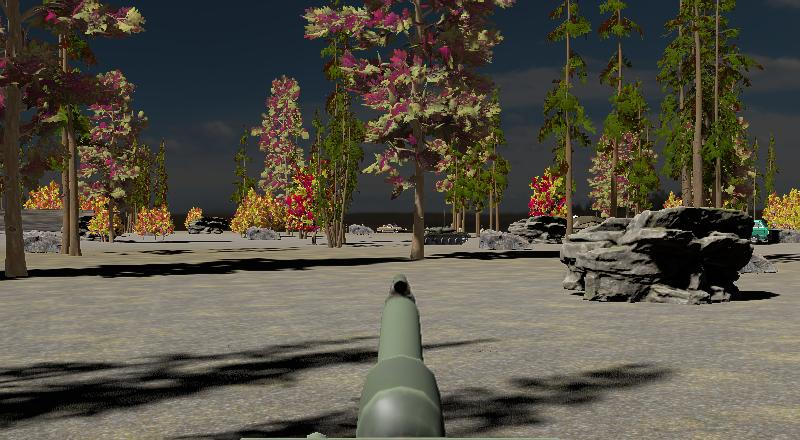Tank: (410, 223, 471, 246)
